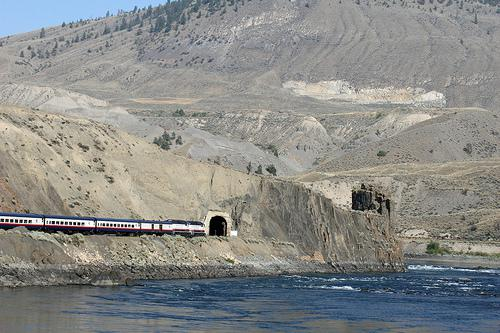Train: (1, 210, 204, 231)
